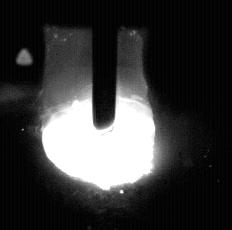arame: (93, 0, 117, 134)
poca: (40, 0, 156, 230)
